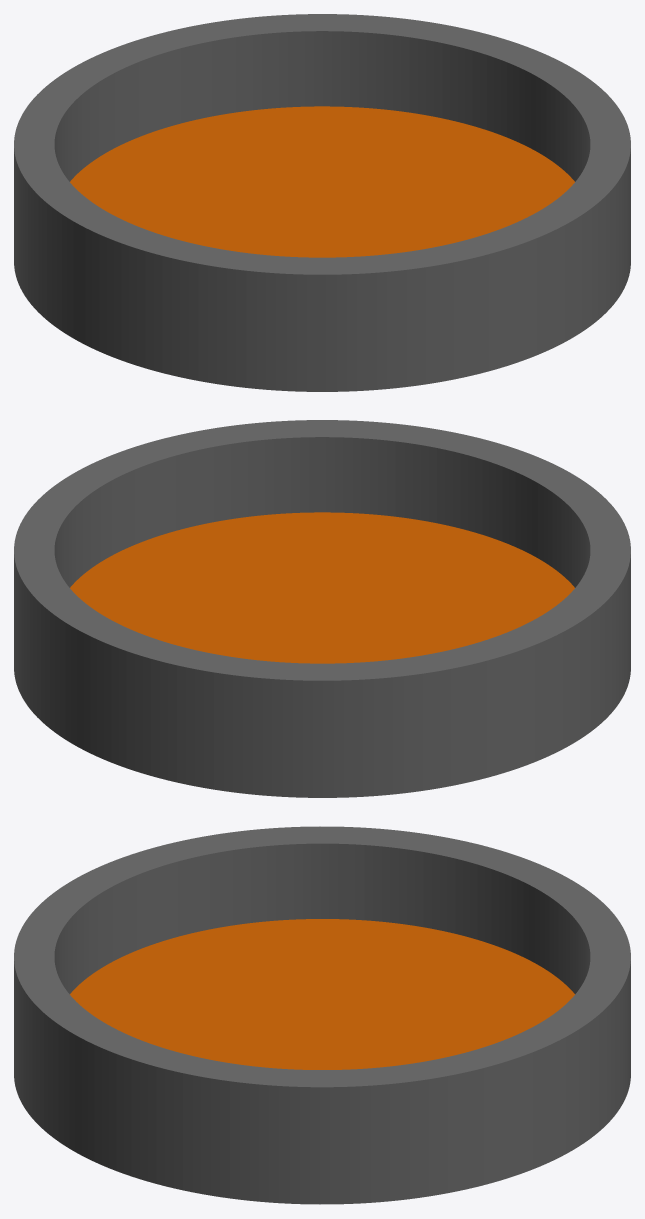
File: Forge.fbx
3 renders of one model, top to bottom at view 1: azimuth 30°, elevation 25°; view 2: azimuth 150°, elevation 25°; view 3: azimuth 270°, elevation 25°, orthographic.
Visible parts, largest first — view 1: Cylinder; view 2: Cylinder; view 3: Cylinder.
Part boxes in pixels (x1=…): Cylinder: x1=14, y1=14, x2=630, y2=391; Cylinder: x1=14, y1=420, x2=630, y2=797; Cylinder: x1=14, y1=826, x2=630, y2=1204.
Bounding box in the file's own units: 954 × 200 × 954.
